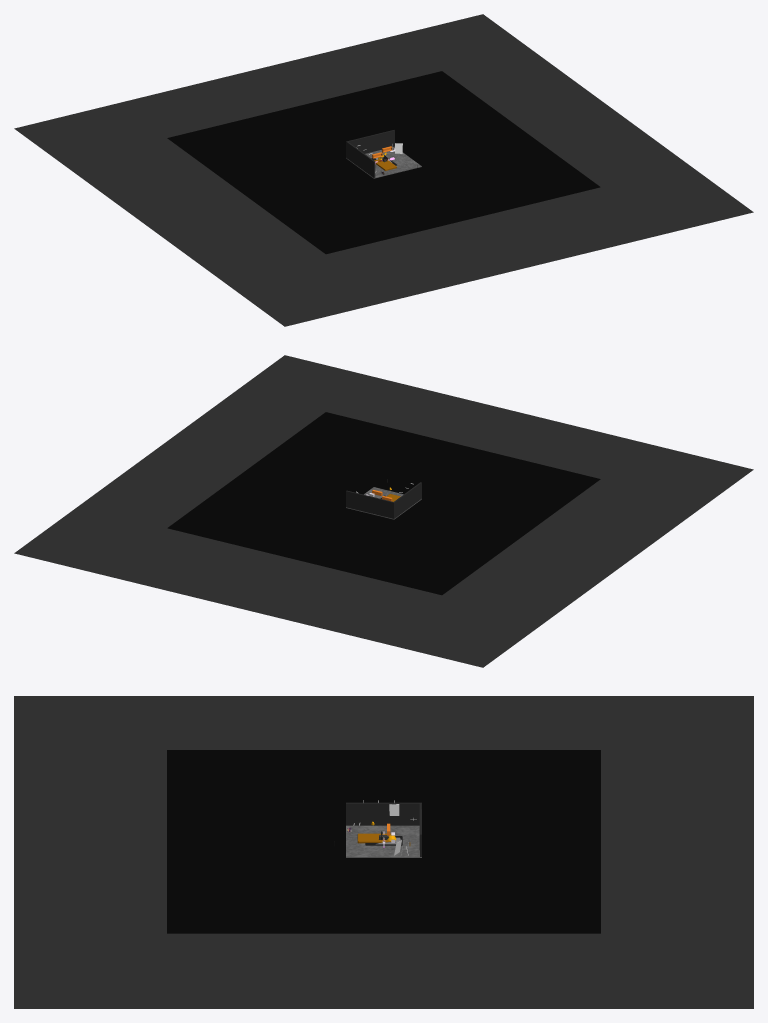
File: game_room-optimized.glb
3 renders of one model, top to bottom at view 1: azimuth 30°, elevation 25°; view 2: azimuth 150°, elevation 25°; view 3: azimuth 270°, elevation 25°, orthographic. The views are drawn at different scales.
Parts seen in each view (by area): view 1: Object_146, Object_221, Object_150, Object_204; view 2: Object_146, Object_221, Object_150; view 3: Object_146, Object_221, Object_204, Object_150.
Boxes of the visible parts, <box> form: Object_146: <box>14,14,753,326</box>; Object_221: <box>167,71,600,254</box>; Object_150: <box>346,130,394,177</box>; Object_204: <box>346,146,421,178</box>; Object_146: <box>14,355,753,667</box>; Object_221: <box>167,412,600,595</box>; Object_150: <box>346,482,421,518</box>; Object_146: <box>14,696,753,1008</box>; Object_221: <box>167,750,600,933</box>; Object_204: <box>346,825,421,857</box>; Object_150: <box>346,802,421,856</box>.
Bounding box in the file's own units: 1227014 × 91290 × 1227014.
54 materials, 12 textured.
